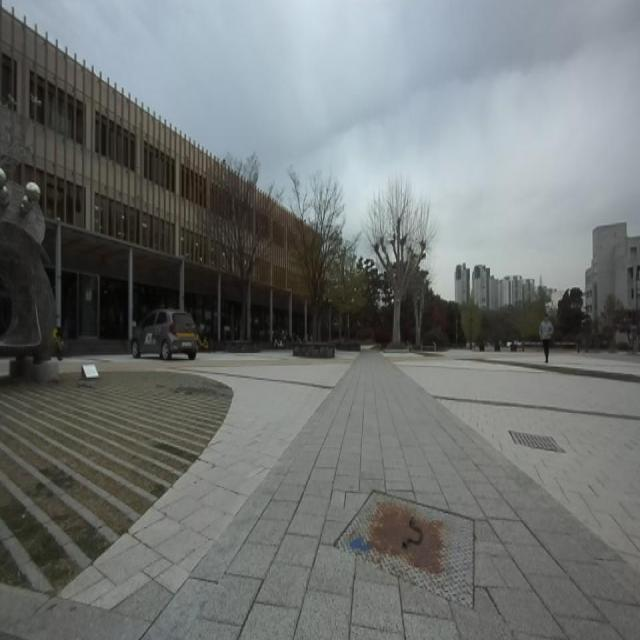sidewalk: (145, 353, 640, 639)
